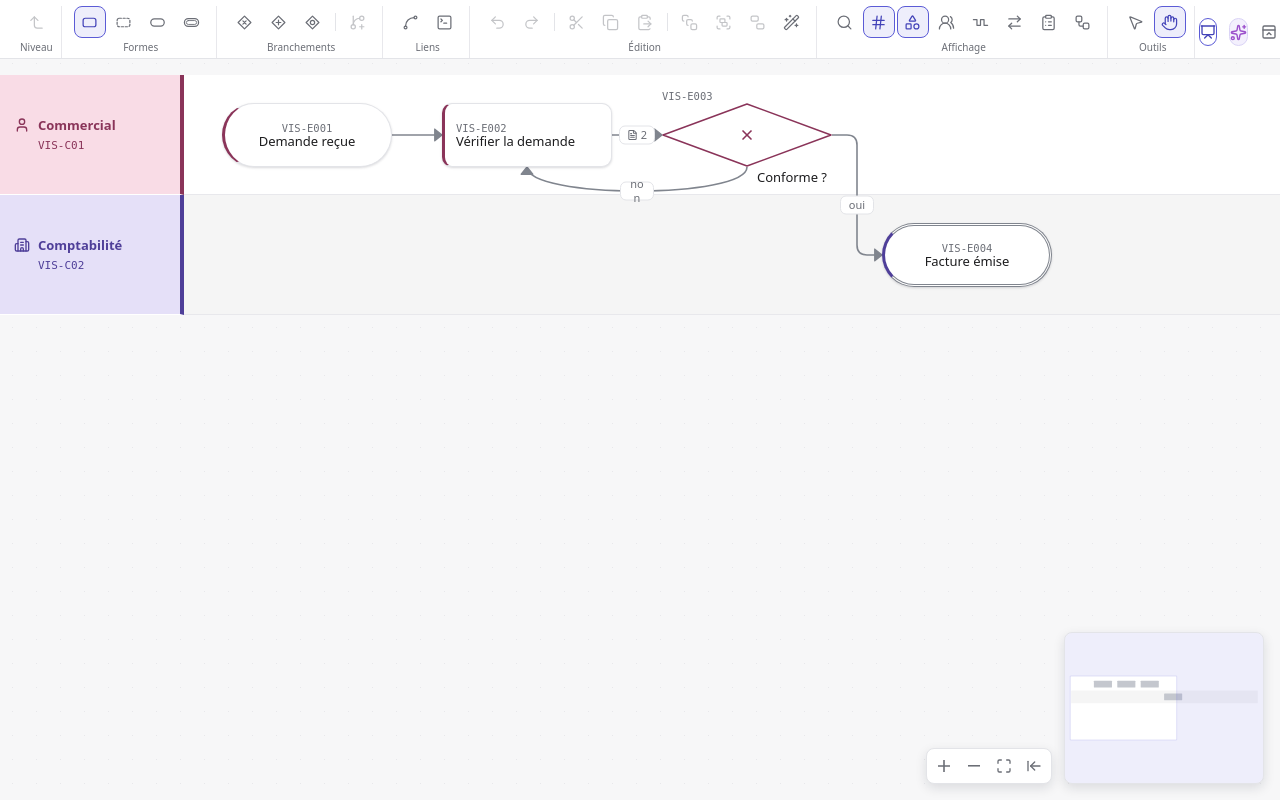
Test: a pointer gesture that does nothing brings the cursor back to the field › says the conflict again on the pencil, the cursor in the field
The width and height of the screenshot is (1280, 800).
Press F5
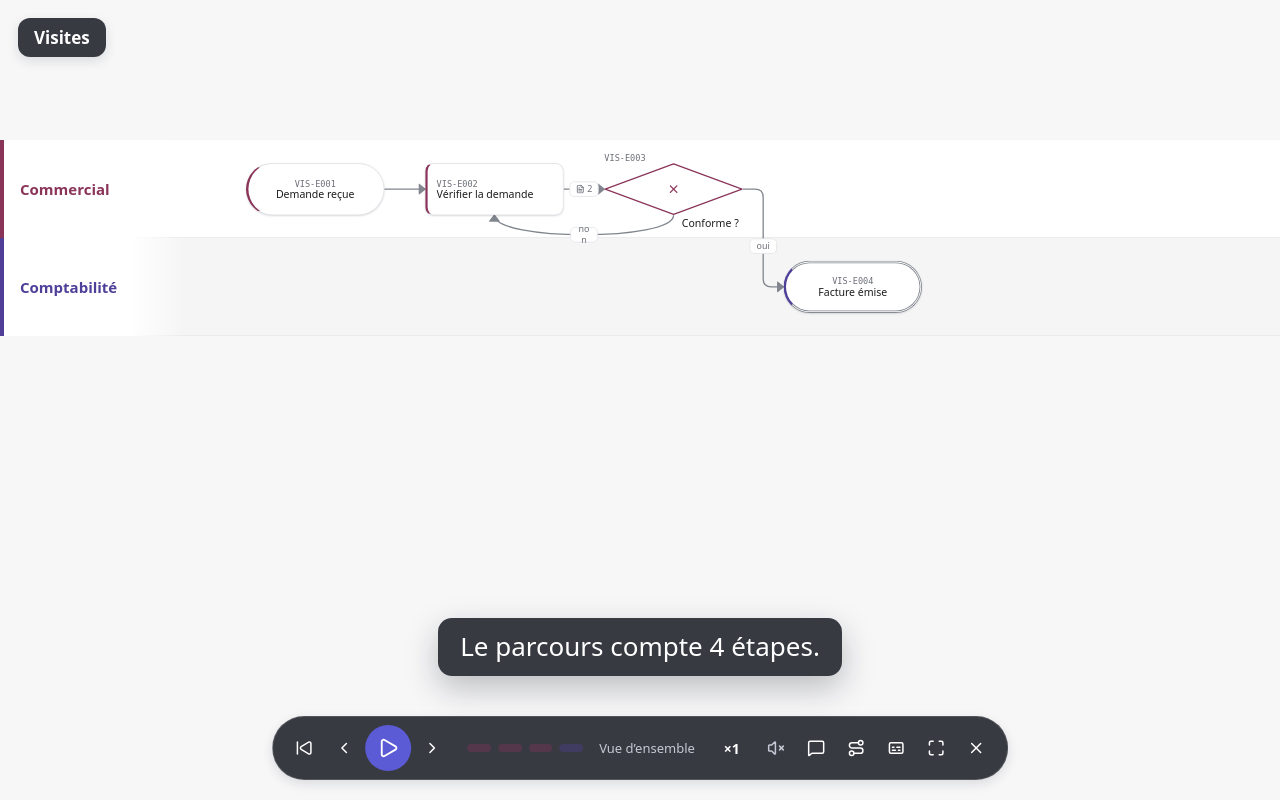
Press ArrowRight
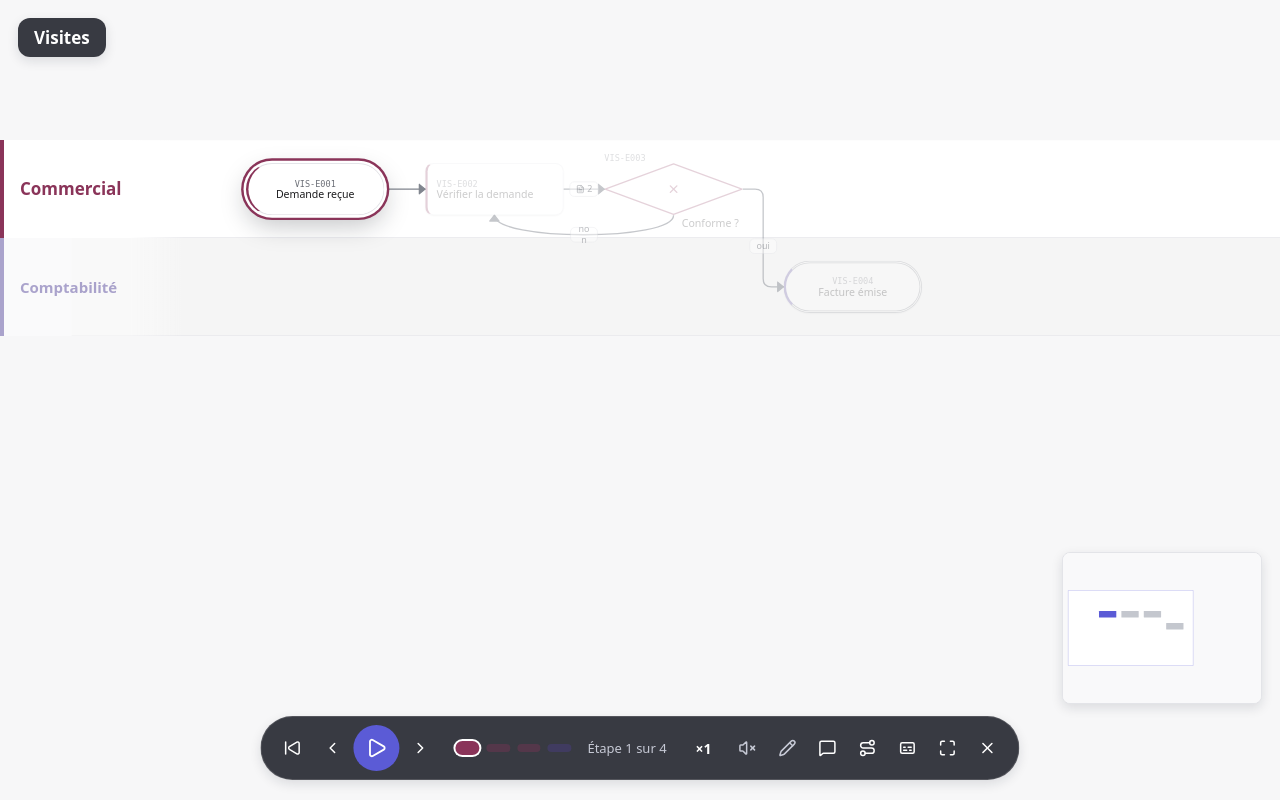
Press ArrowRight
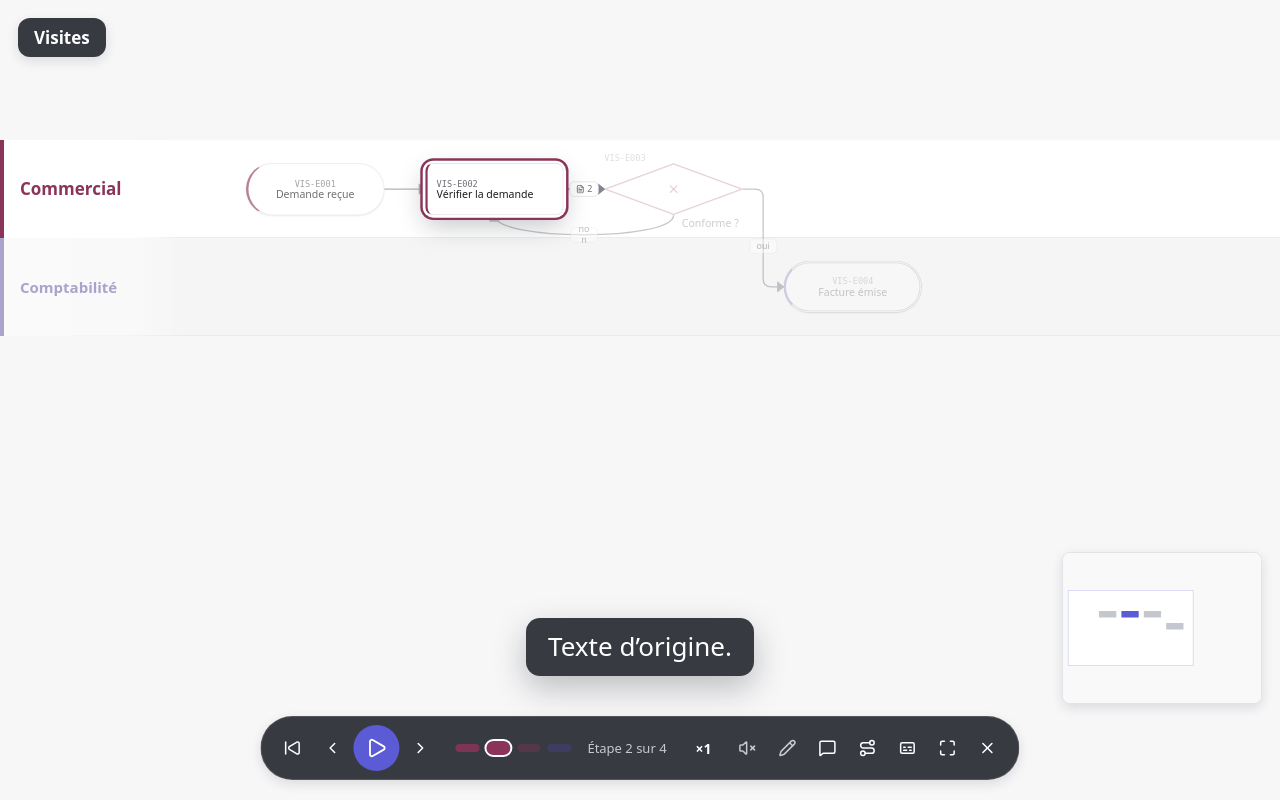
Press t
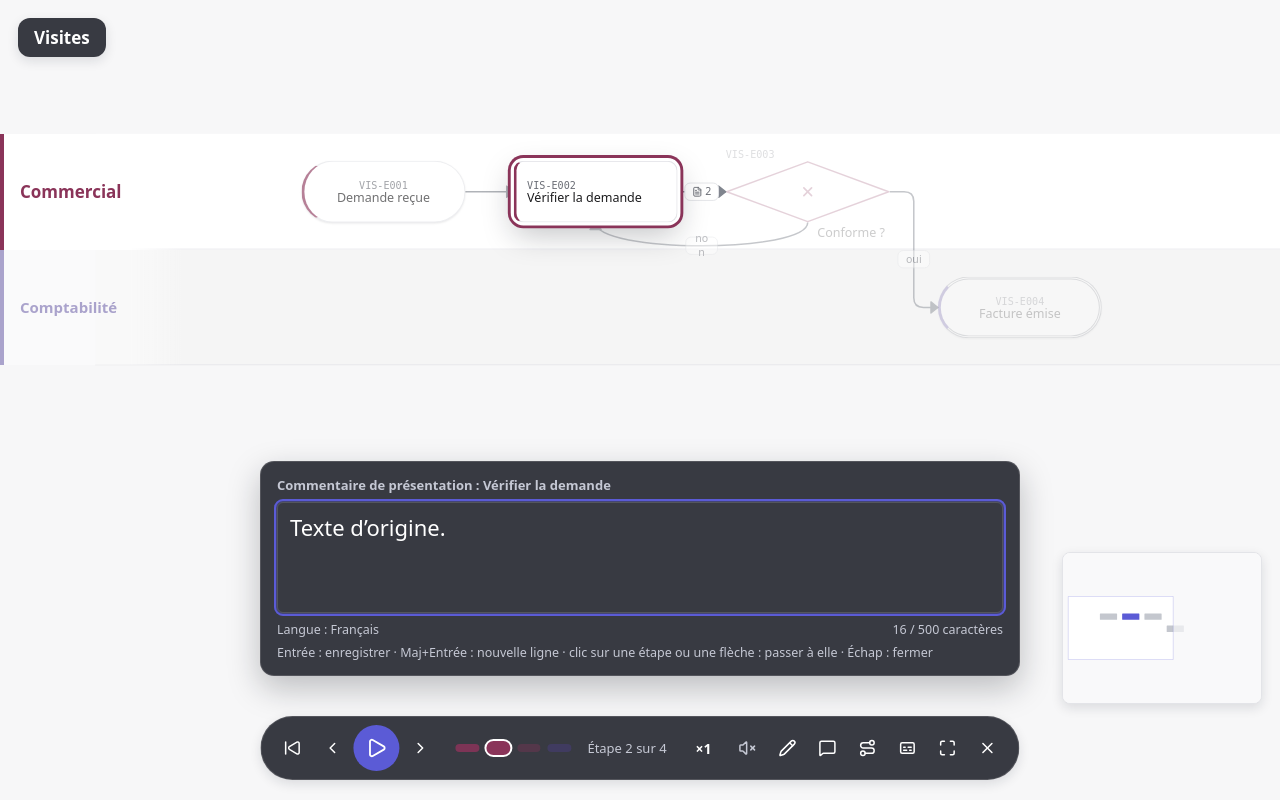
Replace the text in the text box with test id "presenter-comment-field" with "Ma réponse." at [640, 557], box [277,502,1003,613]
Press Enter in the text box with test id "presenter-comment-field", box [277,502,1003,613]
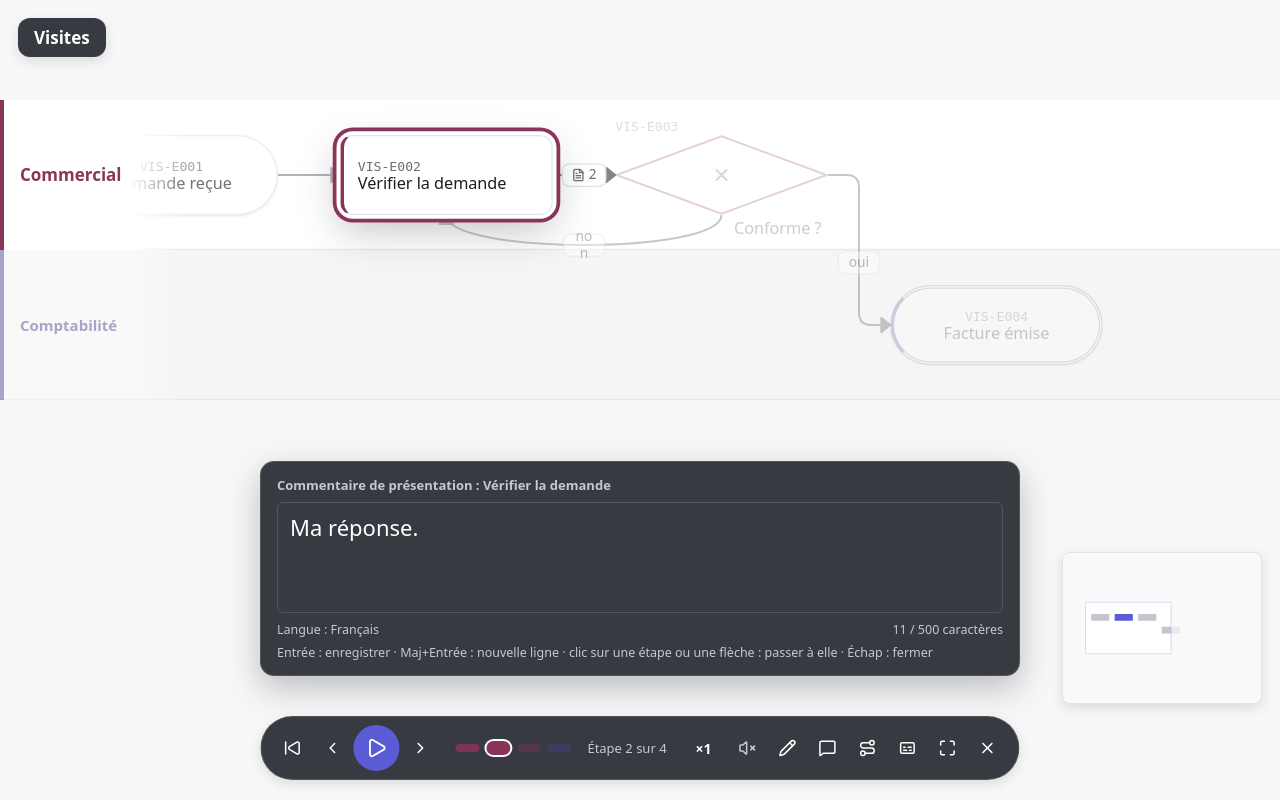
Click the 2nd button with test id "presenter-comment" at [788, 748], box [769,729,807,767]
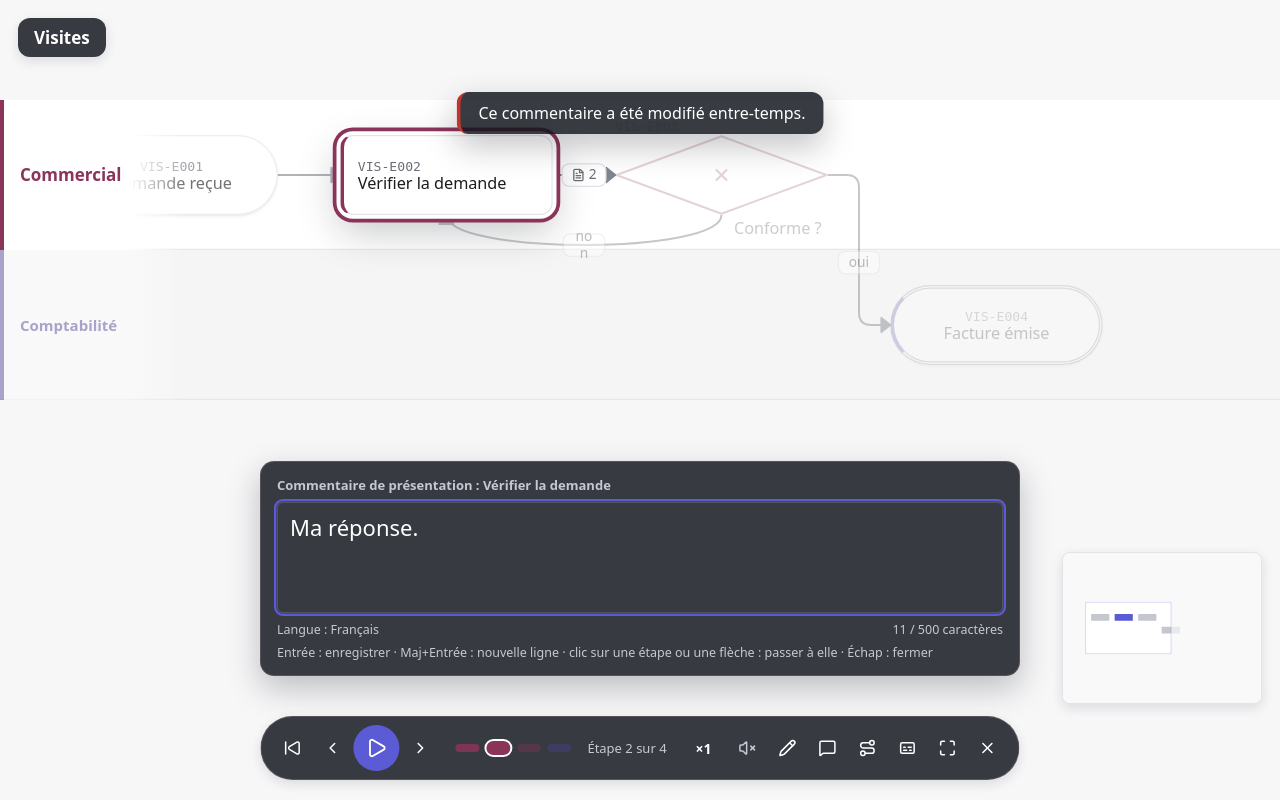
Expected: the message reads "Ce commentaire a été modifié entre-temps.", [478,102,806,124]
